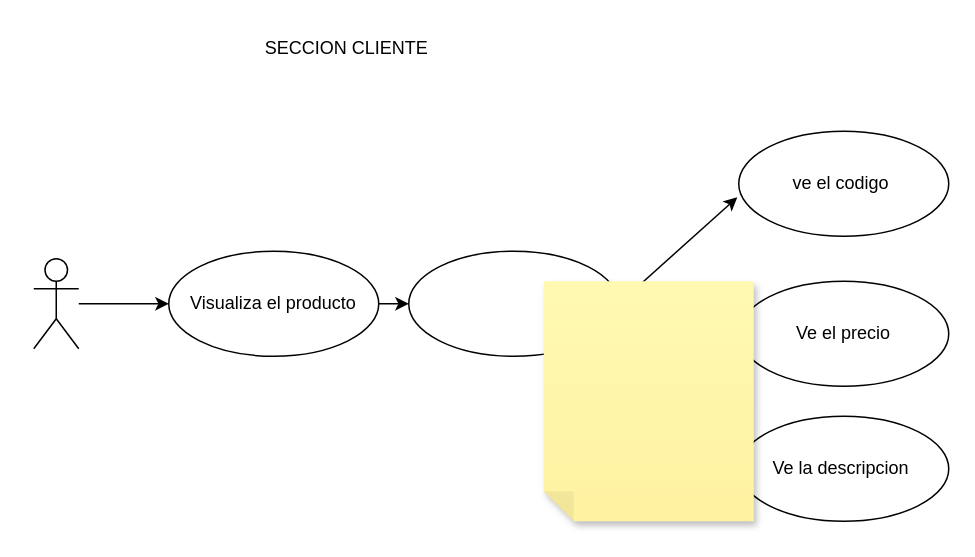
Image size: 975x557. Some labels were removed from this diagram. The centre of each missing label's shape, as x and y in pixels:
"Cliente" belongs at [55,303].
"Interes en el producto" belongs at [513,303].
